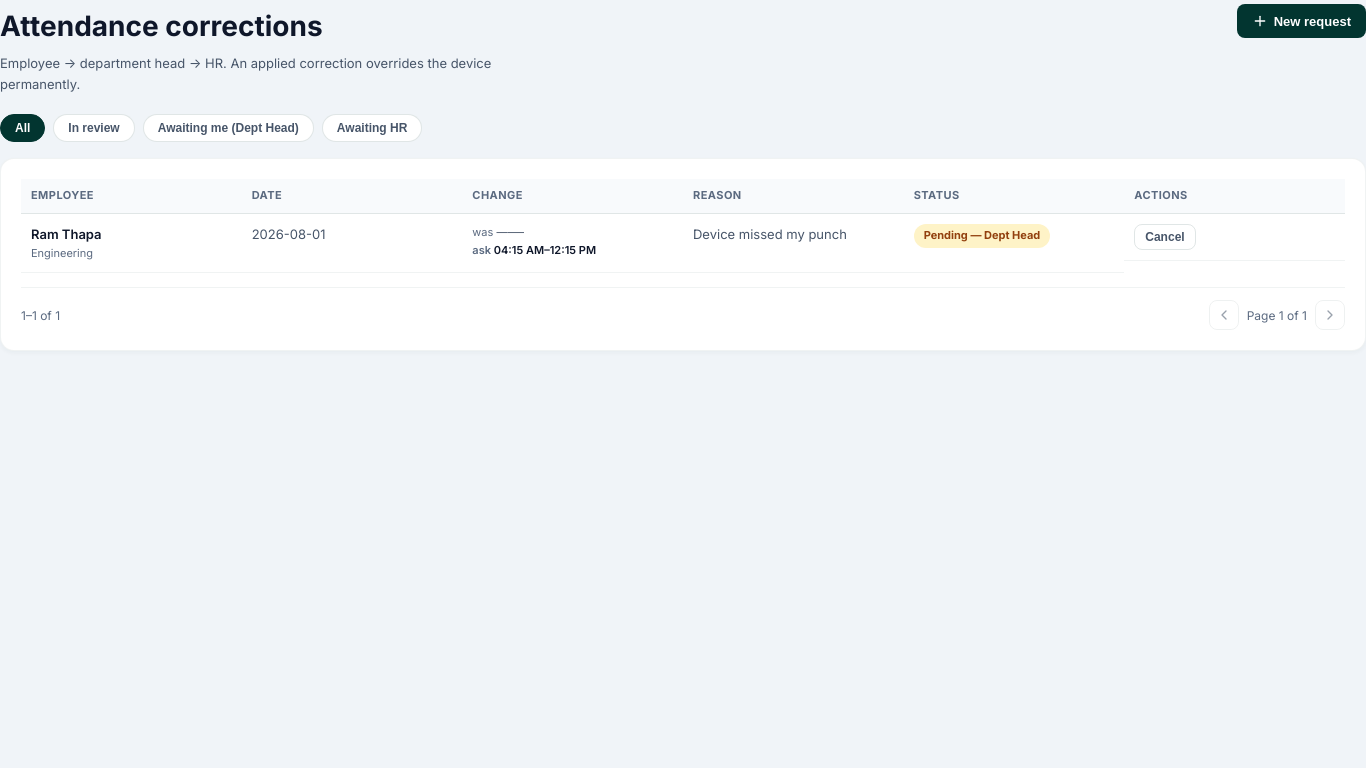
Scenario: Corrections › opens the submit modal
Click the button "New request" at (1301, 21), box left=1237, top=4, right=1365, bottom=38
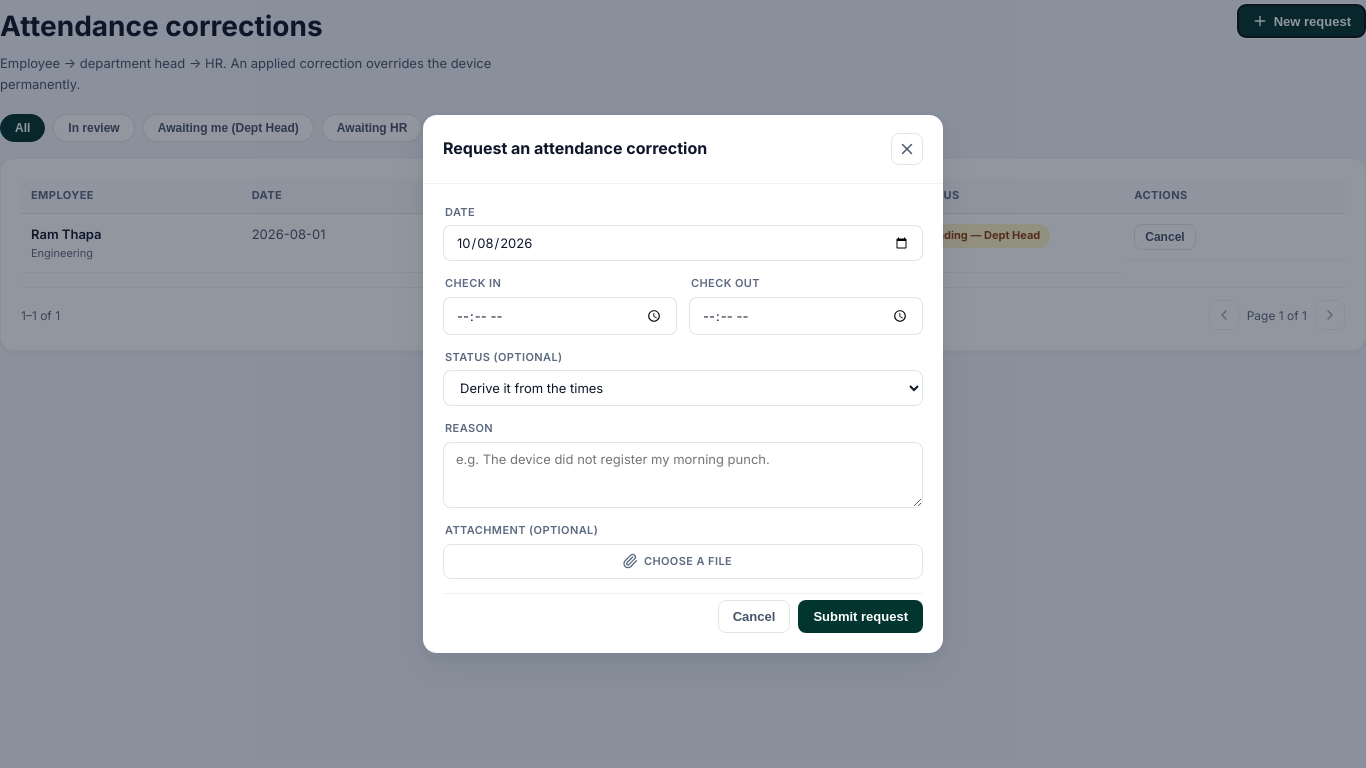
Check: the dialog is shown, box left=423, top=115, right=943, bottom=653
